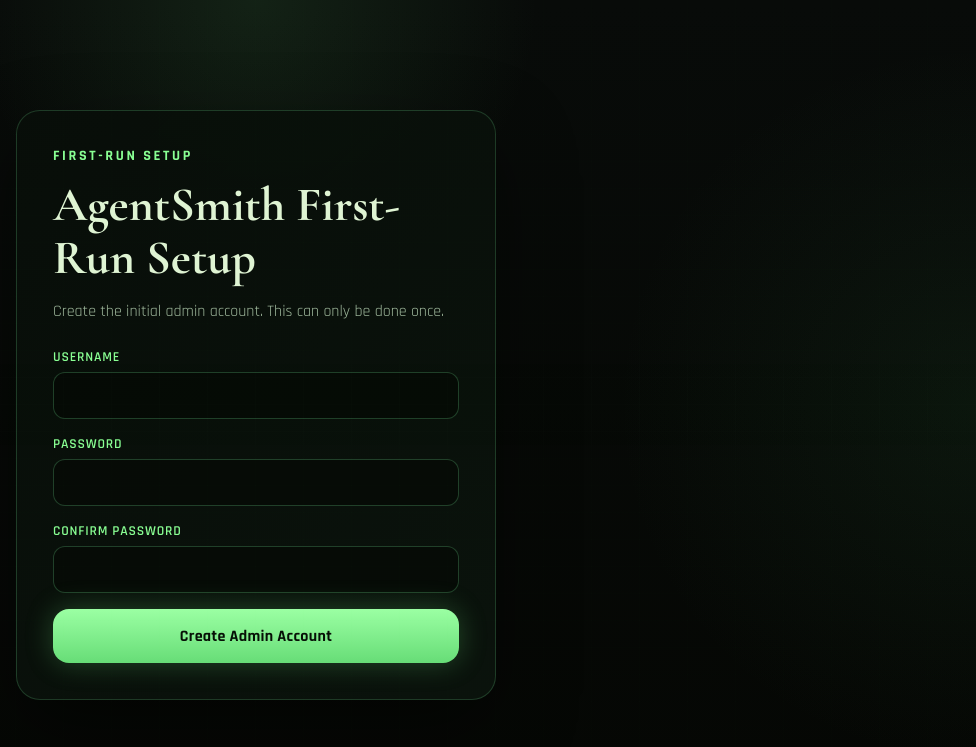
Test: SetupPage › shows error when passwords do not match
Type "adminuser" into the field labelled "Username" at (256, 396), box [53,372,459,419]
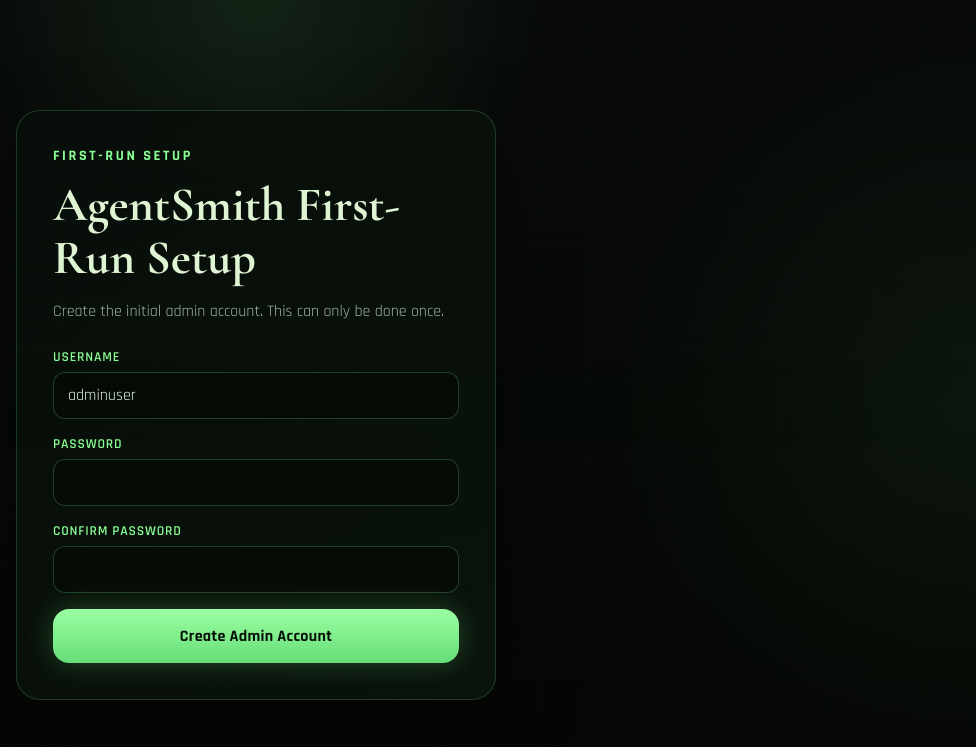
Type "securepass1" into the password field labelled "Password" at (256, 483), box [53,459,459,506]
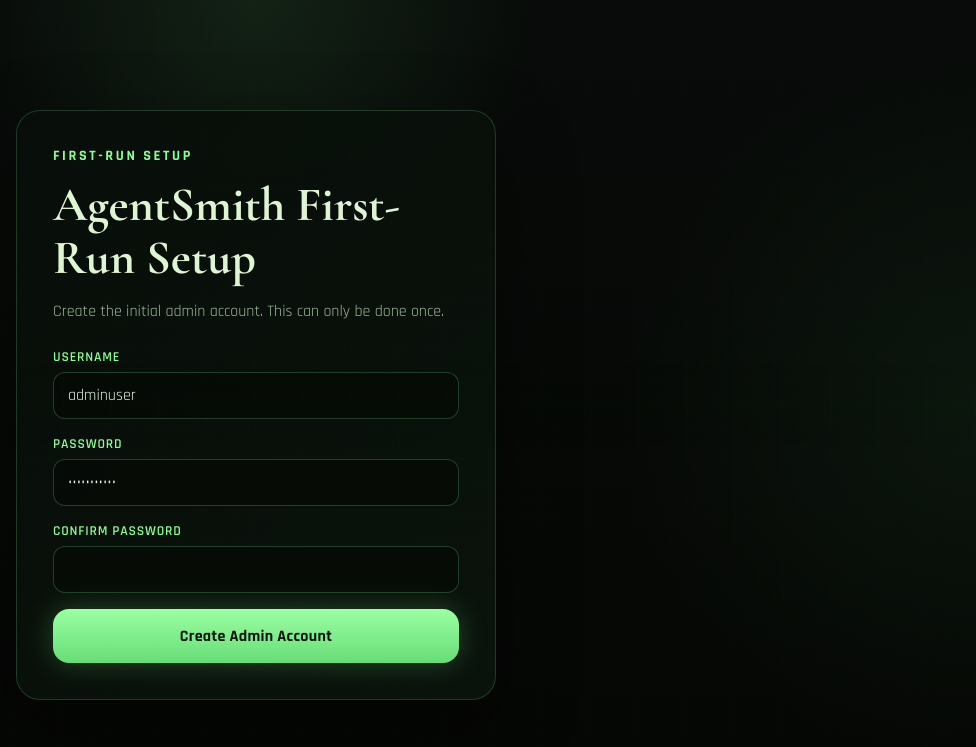
Type "differentpass" into the password field labelled "Confirm Password" at (256, 570), box [53,546,459,593]
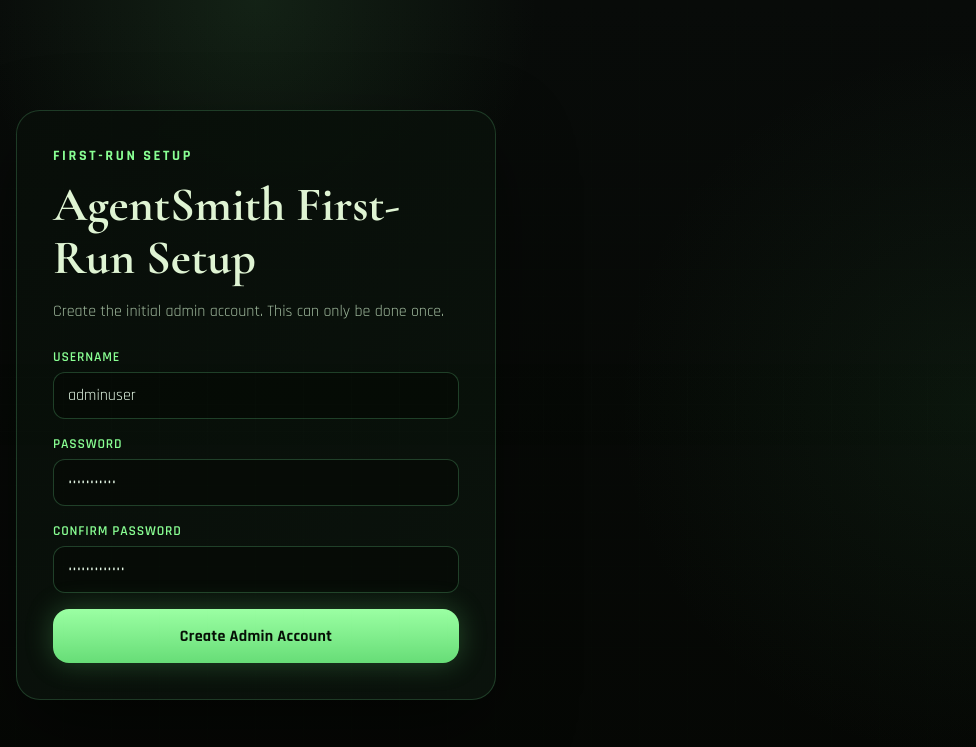
Click the button "Create Admin Account" at (256, 636), box [53,609,459,663]
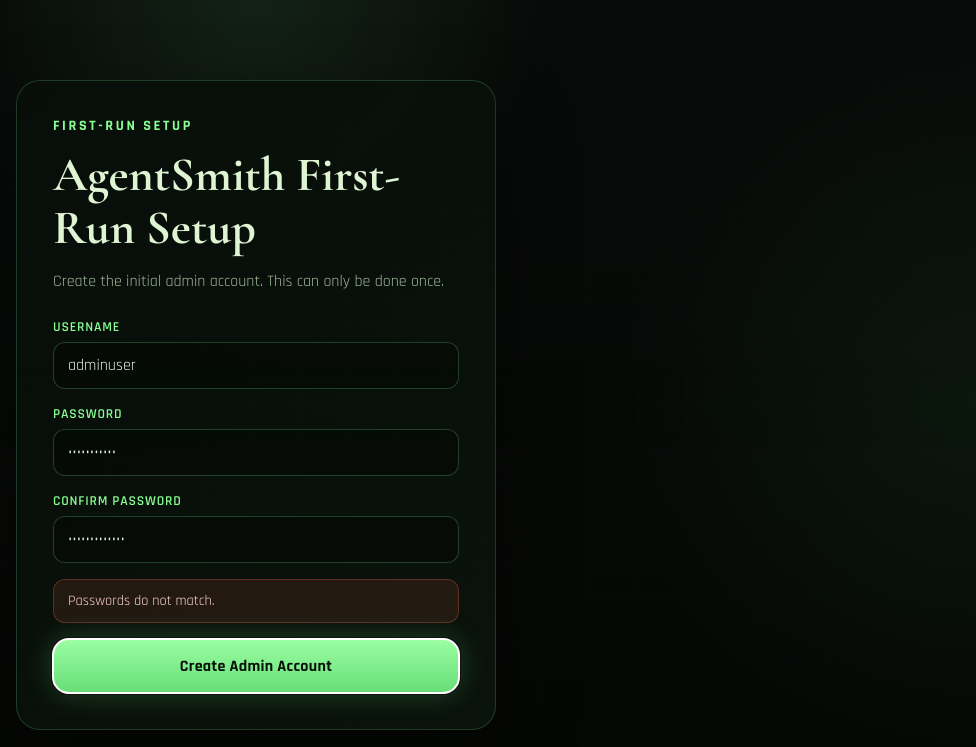
Check: the message shows "Passwords do not match", box [68,592,214,610]
